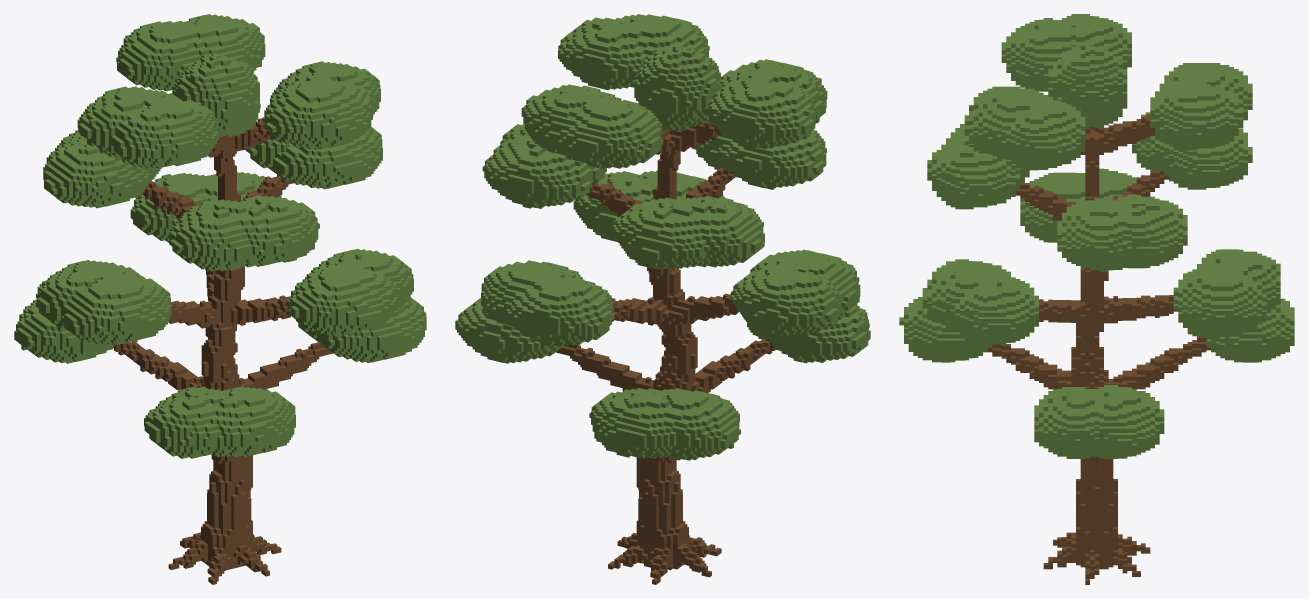
3 views of the same model, side by side, from view 1: azimuth 30°, elevation 25°; view 2: azimuth 150°, elevation 25°; view 3: azimuth 270°, elevation 25° (orthographic).
Parts seen in each view (by area): view 1: 既有乔木色阶与高度族; view 2: 既有乔木色阶与高度族; view 3: 既有乔木色阶与高度族.
Boxes of the visible parts, x1,y1,x2,y2 form: 既有乔木色阶与高度族: [14, 14, 426, 584]; 既有乔木色阶与高度族: [455, 14, 870, 584]; 既有乔木色阶与高度族: [899, 14, 1294, 584].
Size of the model in its own units: 18 by 24 by 17.
3 materials, 3 textured.
